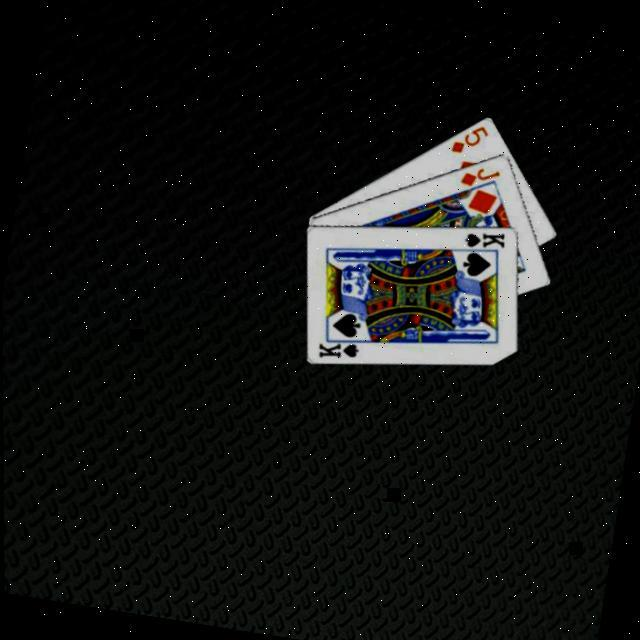5D: (449, 121, 494, 163)
JD: (457, 163, 505, 196)
KS: (315, 332, 367, 368), (462, 226, 511, 257)
